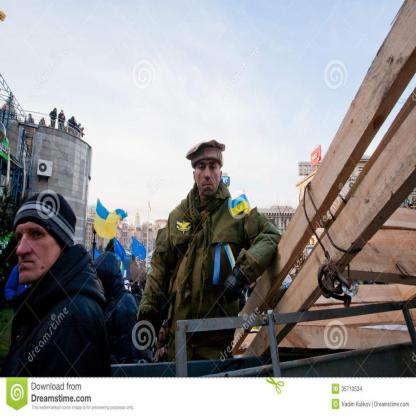face: (17, 208, 61, 283), (196, 151, 221, 197)
